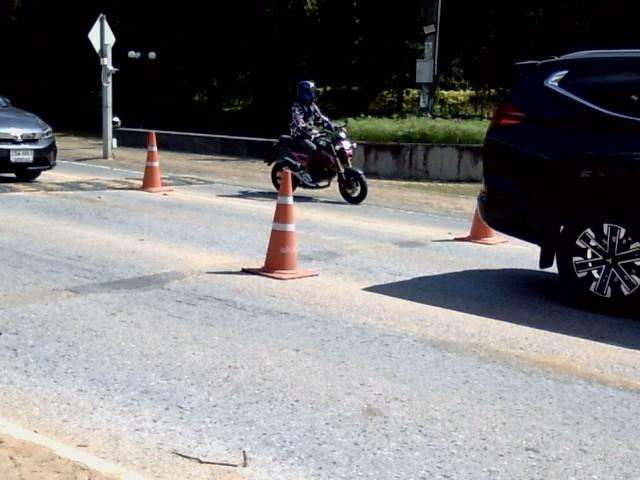helmet: (293, 80, 320, 105)
motor: (264, 127, 366, 203)
person: (290, 80, 339, 151), (298, 156, 314, 182)
